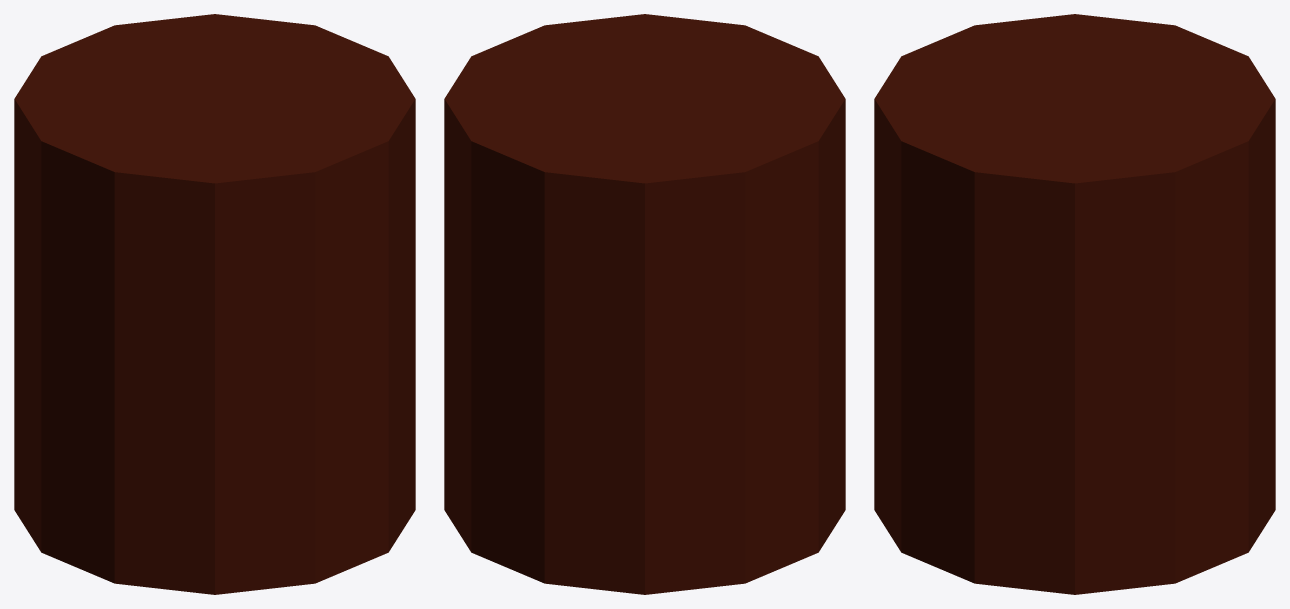
File: Tree Trunk.FBX
3 renders of one model, left to right at view 1: azimuth 30°, elevation 25°; view 2: azimuth 150°, elevation 25°; view 3: azimuth 270°, elevation 25°, orthographic.
Parts seen in each view (by area): view 1: Tree; view 2: Tree; view 3: Tree.
Part boxes in pixels (x1=…): Tree: x1=14, y1=14, x2=415, y2=594; Tree: x1=444, y1=14, x2=845, y2=594; Tree: x1=874, y1=14, x2=1275, y2=594.
Size of the model in its own units: 10.67 by 12.08 by 10.67.
